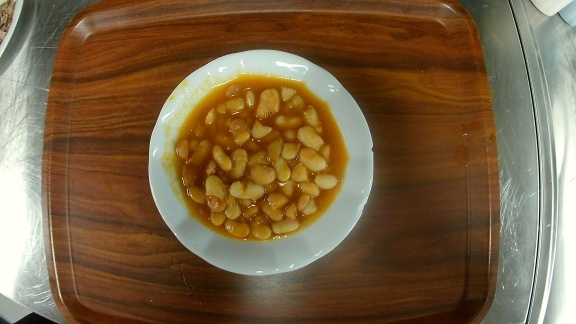kurufasulye: (149, 48, 374, 277)
